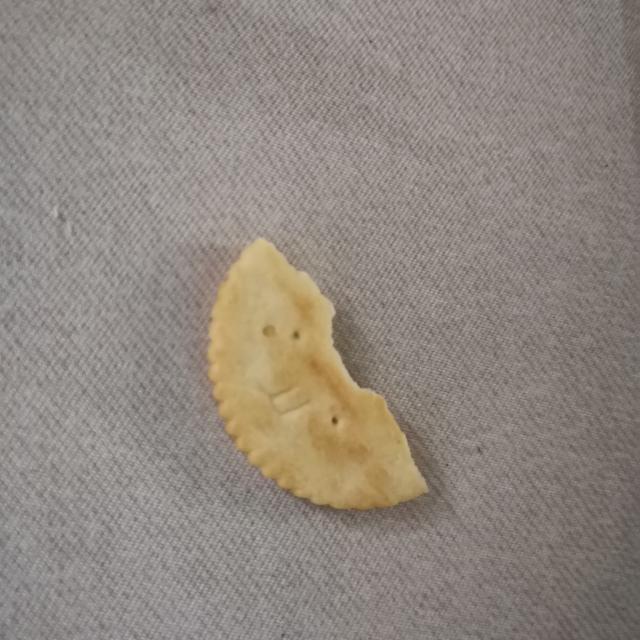Broken: (205, 236, 429, 512)
